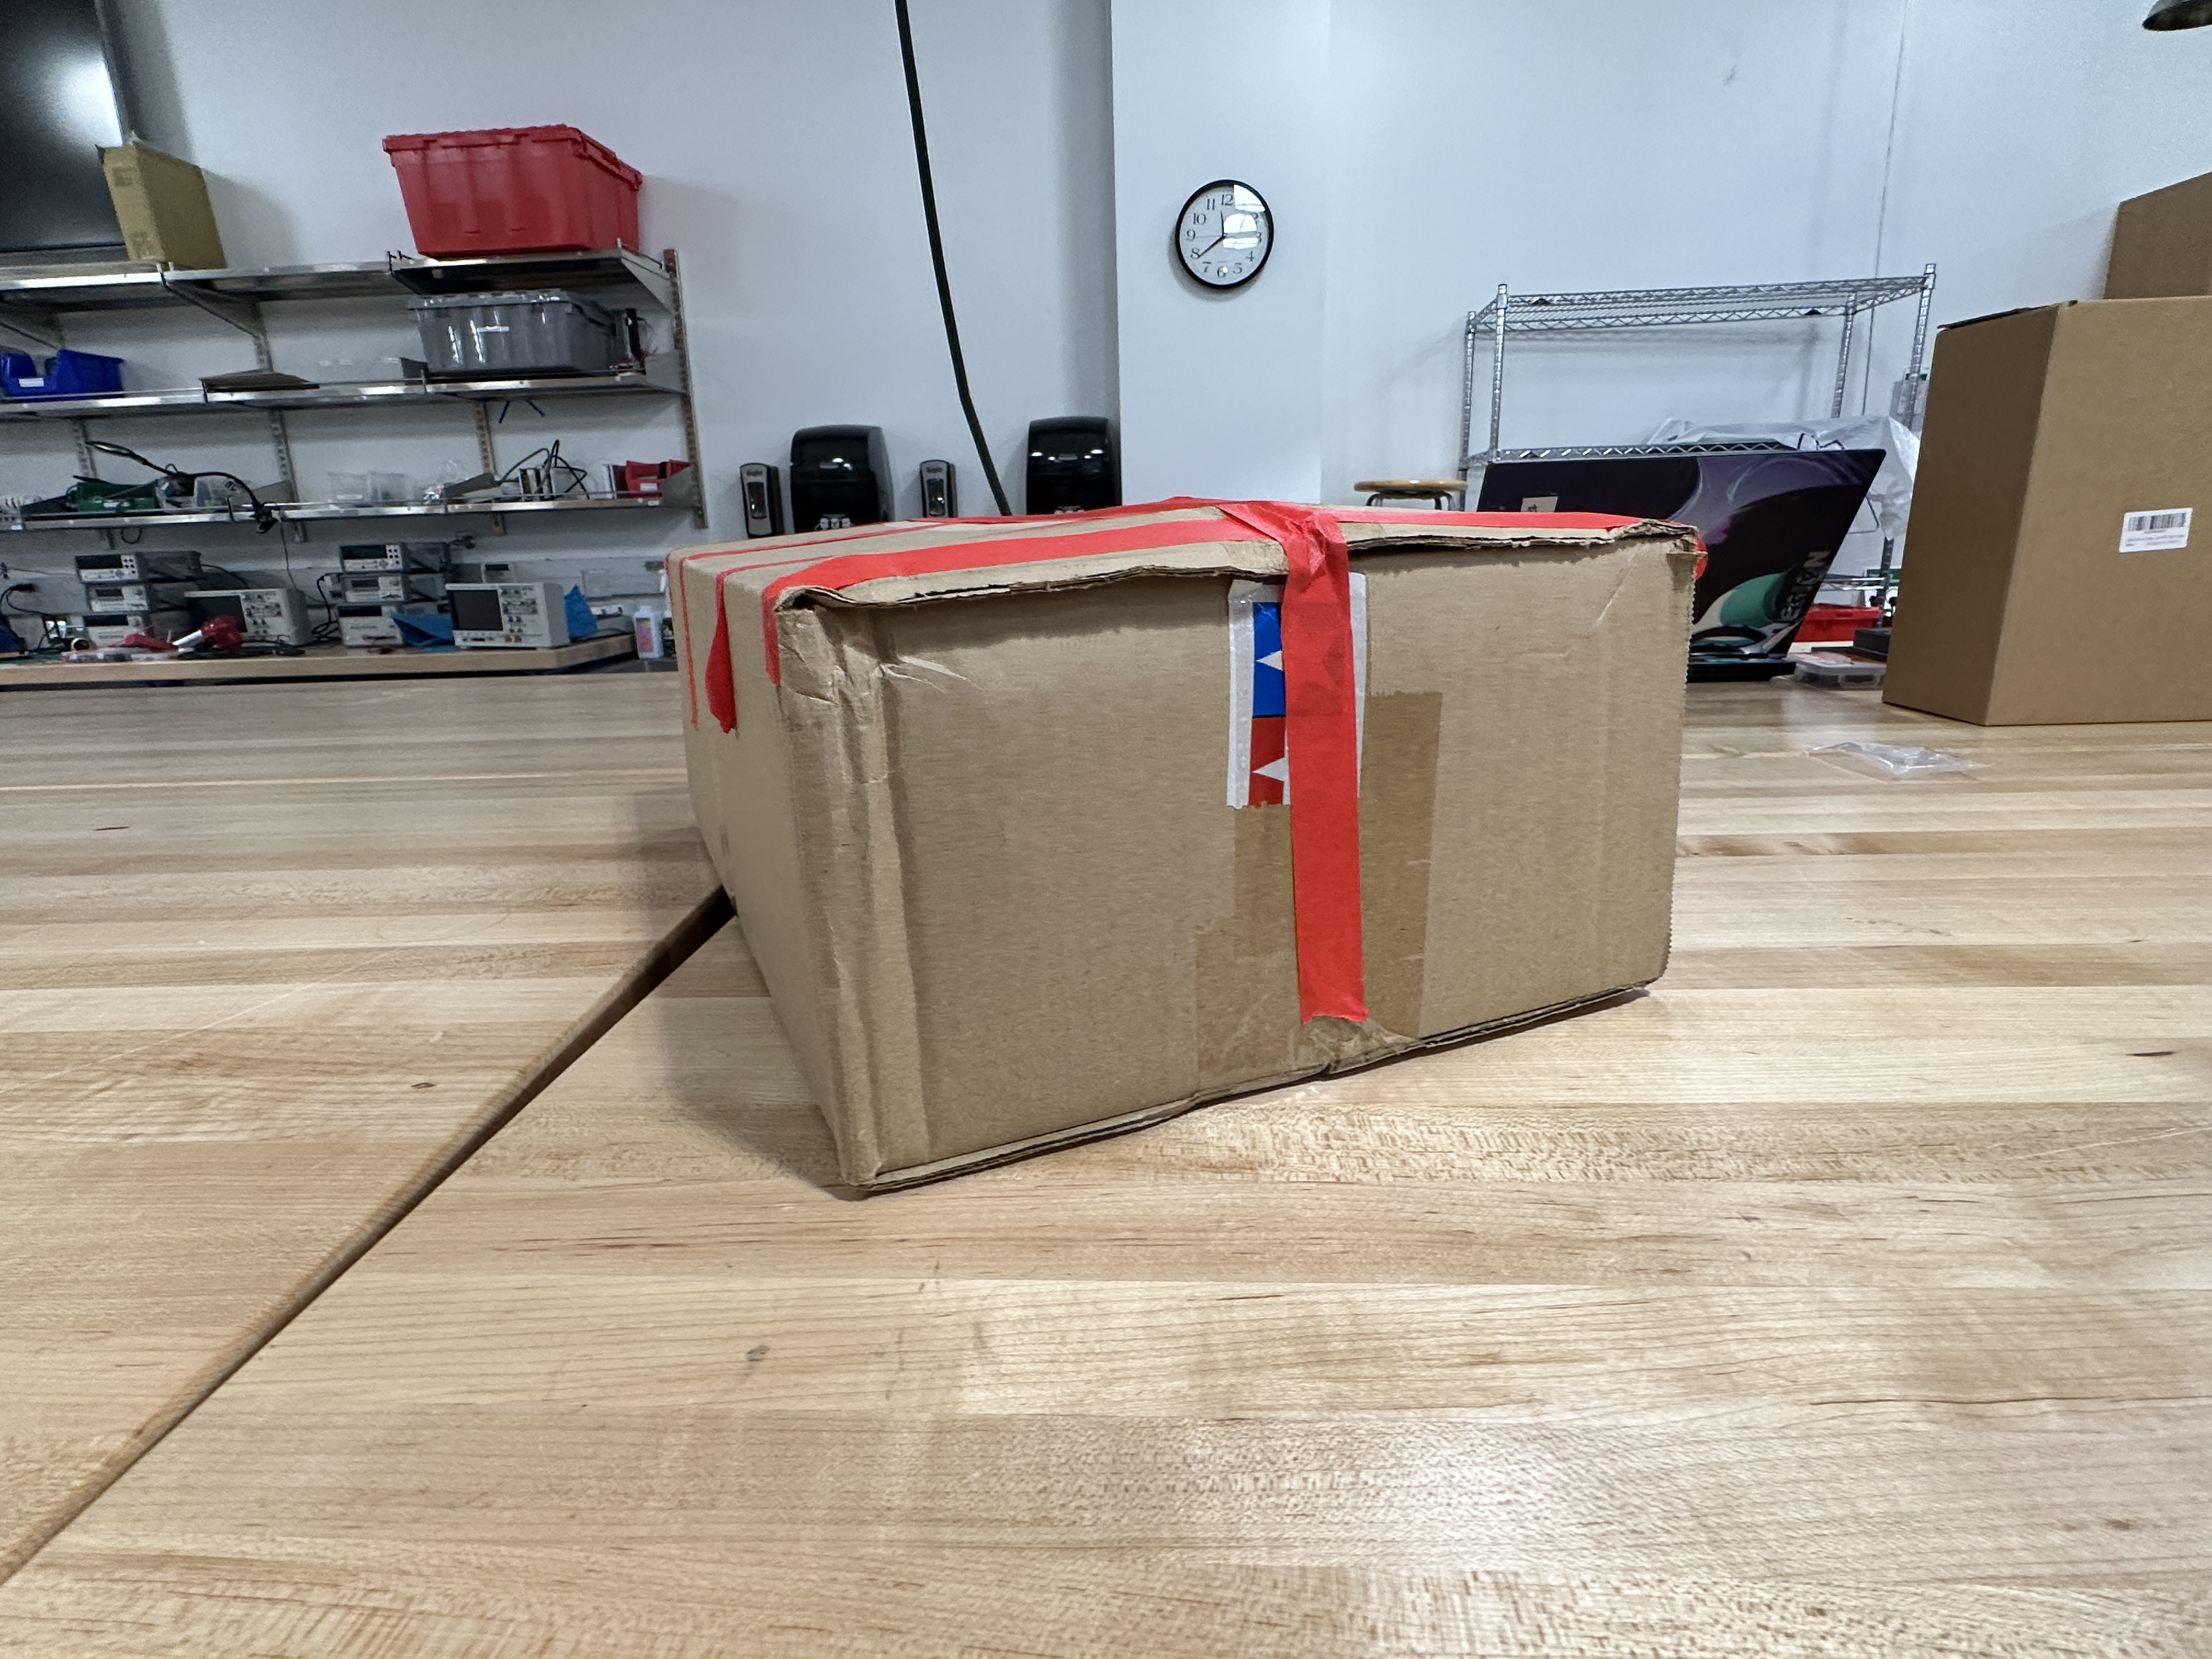Box_Obstacle: (646, 493, 1714, 1209)
